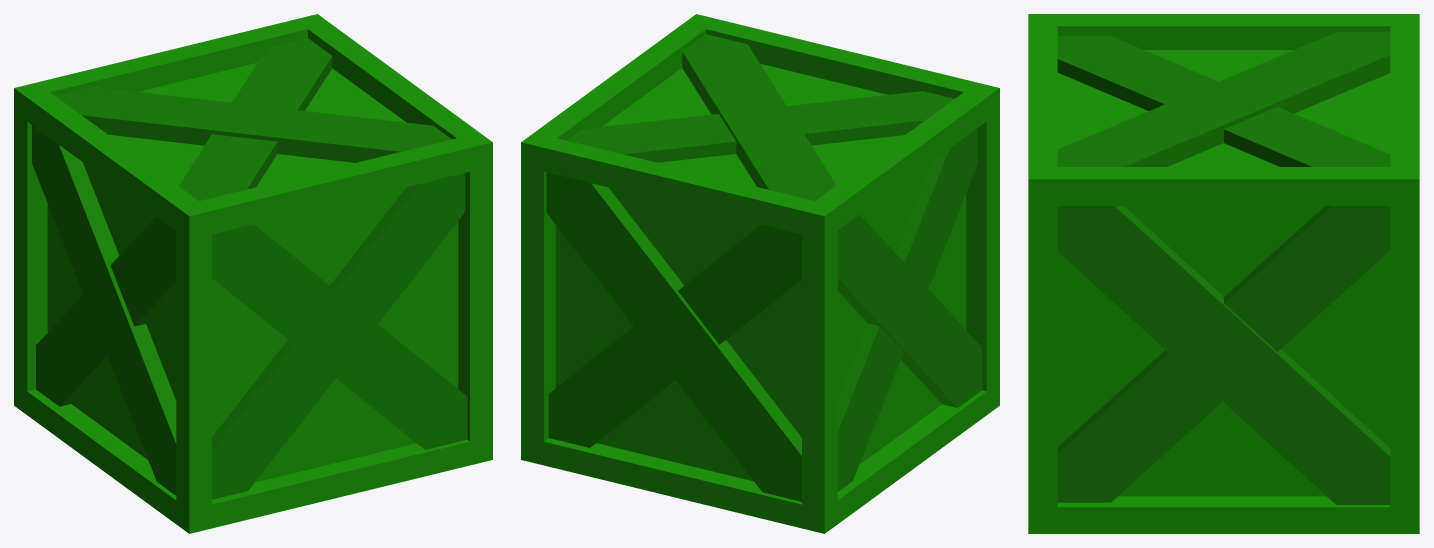
The model's file is Crate1.fbx.
3 views of the same model, side by side, from view 1: azimuth 30°, elevation 25°; view 2: azimuth 150°, elevation 25°; view 3: azimuth 270°, elevation 25° (orthographic). The views are drawn at different scales.
Visible parts, largest first — view 1: Cube.002; view 2: Cube.002; view 3: Cube.002.
Boxes of the visible parts, x1,y1,x2,y2 form: Cube.002: (14,14,492,533); Cube.002: (521,14,999,533); Cube.002: (1028,14,1419,533).
Bounding box in the file's own units: 200 × 200 × 200.
